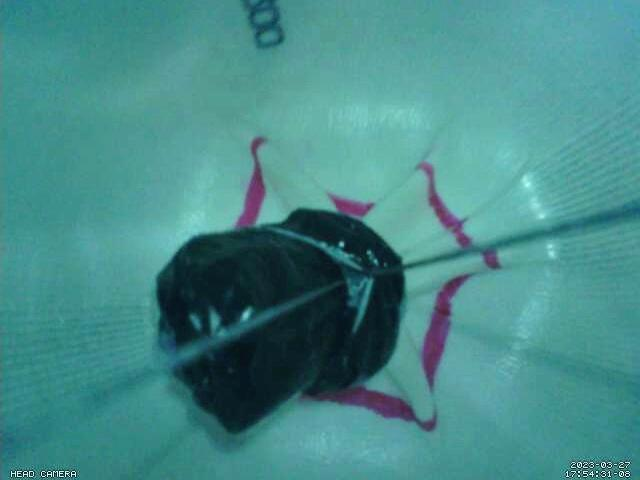red-circle: (235, 136, 500, 432)
